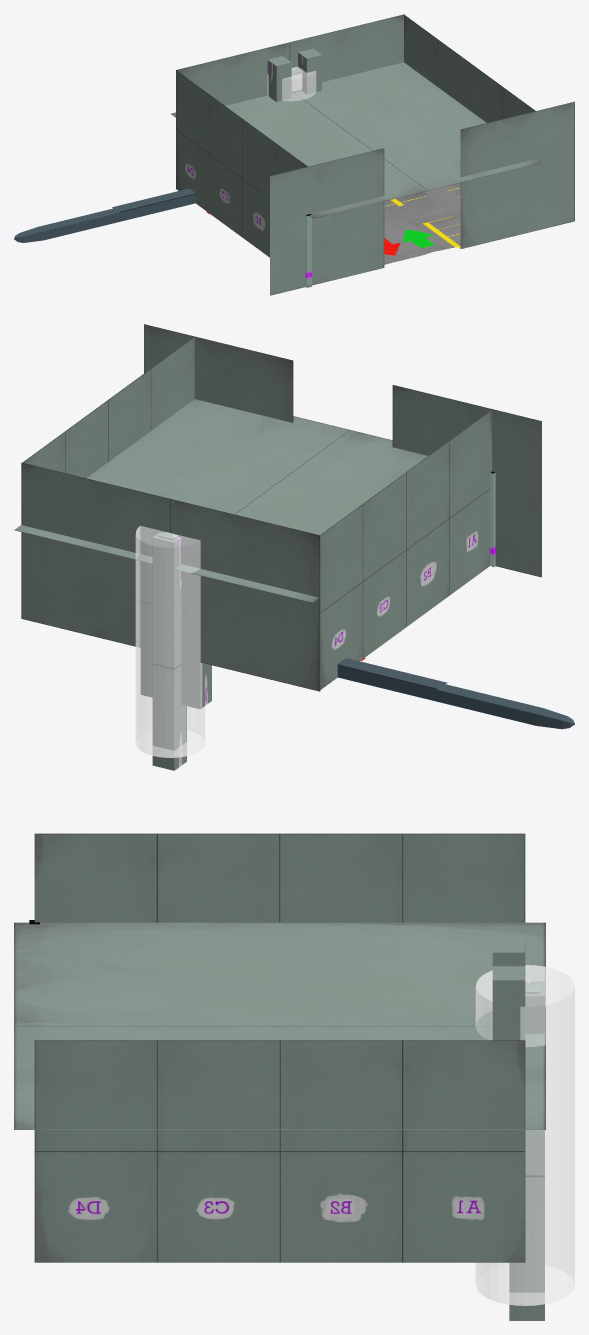
3 views of the same model, one above another, from view 1: azimuth 30°, elevation 25°; view 2: azimuth 150°, elevation 25°; view 3: azimuth 270°, elevation 25° (orthographic). The views are drawn at different scales.
Parts seen in each view (by area): view 1: Roof, Wall front 1, Wall front 2, Wall left, Wall Back, Floor, Wall right, Cube.001, ele.001, Cylinder.002, Polls; view 2: Wall Back, Roof, Wall left, Cylinder.002, Wall front 2, Wall right, Wall front 1, ele, Cube.001, ele.001, Polls; view 3: Wall right, Roof, Wall left, Cylinder.002, ele, ele.001.
Boxes of the visible parts, x1,y1,x2,y2 form: Roof: (171, 62, 541, 218); Wall front 1: (460, 101, 574, 248); Wall front 2: (270, 148, 384, 295); Wall left: (176, 70, 307, 257); Wall Back: (176, 14, 404, 105); Floor: (175, 183, 460, 266); Wall right: (404, 14, 535, 122); Cube.001: (14, 188, 195, 242); ele.001: (267, 48, 321, 101); Cylinder.002: (267, 66, 316, 101); Polls: (305, 214, 311, 287); Wall Back: (21, 462, 319, 691); Roof: (14, 399, 427, 602); Wall left: (320, 409, 492, 691); Cylinder.002: (135, 526, 205, 757); Wall front 2: (392, 385, 541, 577); Wall right: (22, 337, 194, 478); Wall front 1: (144, 324, 293, 422); ele: (152, 532, 186, 770); Cube.001: (337, 658, 574, 729); ele.001: (140, 510, 211, 708); Polls: (490, 471, 495, 567); Wall right: (34, 1040, 525, 1262); Roof: (14, 922, 545, 1129); Wall left: (34, 833, 525, 922); Cylinder.002: (475, 965, 574, 1305); ele: (509, 981, 544, 1320); ele.001: (492, 938, 525, 1040).
Size of the model in its own units: 178 by 77.31 by 105.
Materials: 14 (8 with a texture image).
